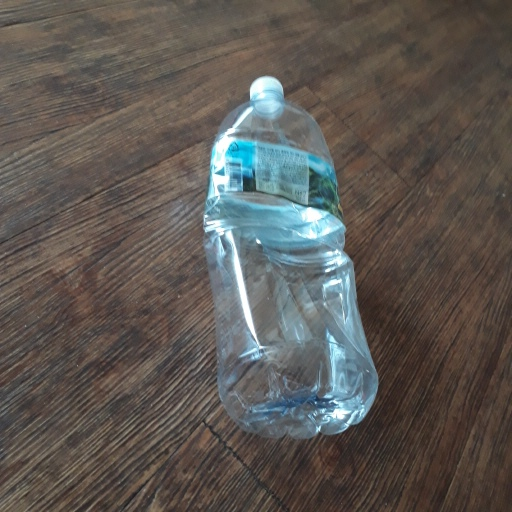Plastic_0: (199, 74, 377, 435)
